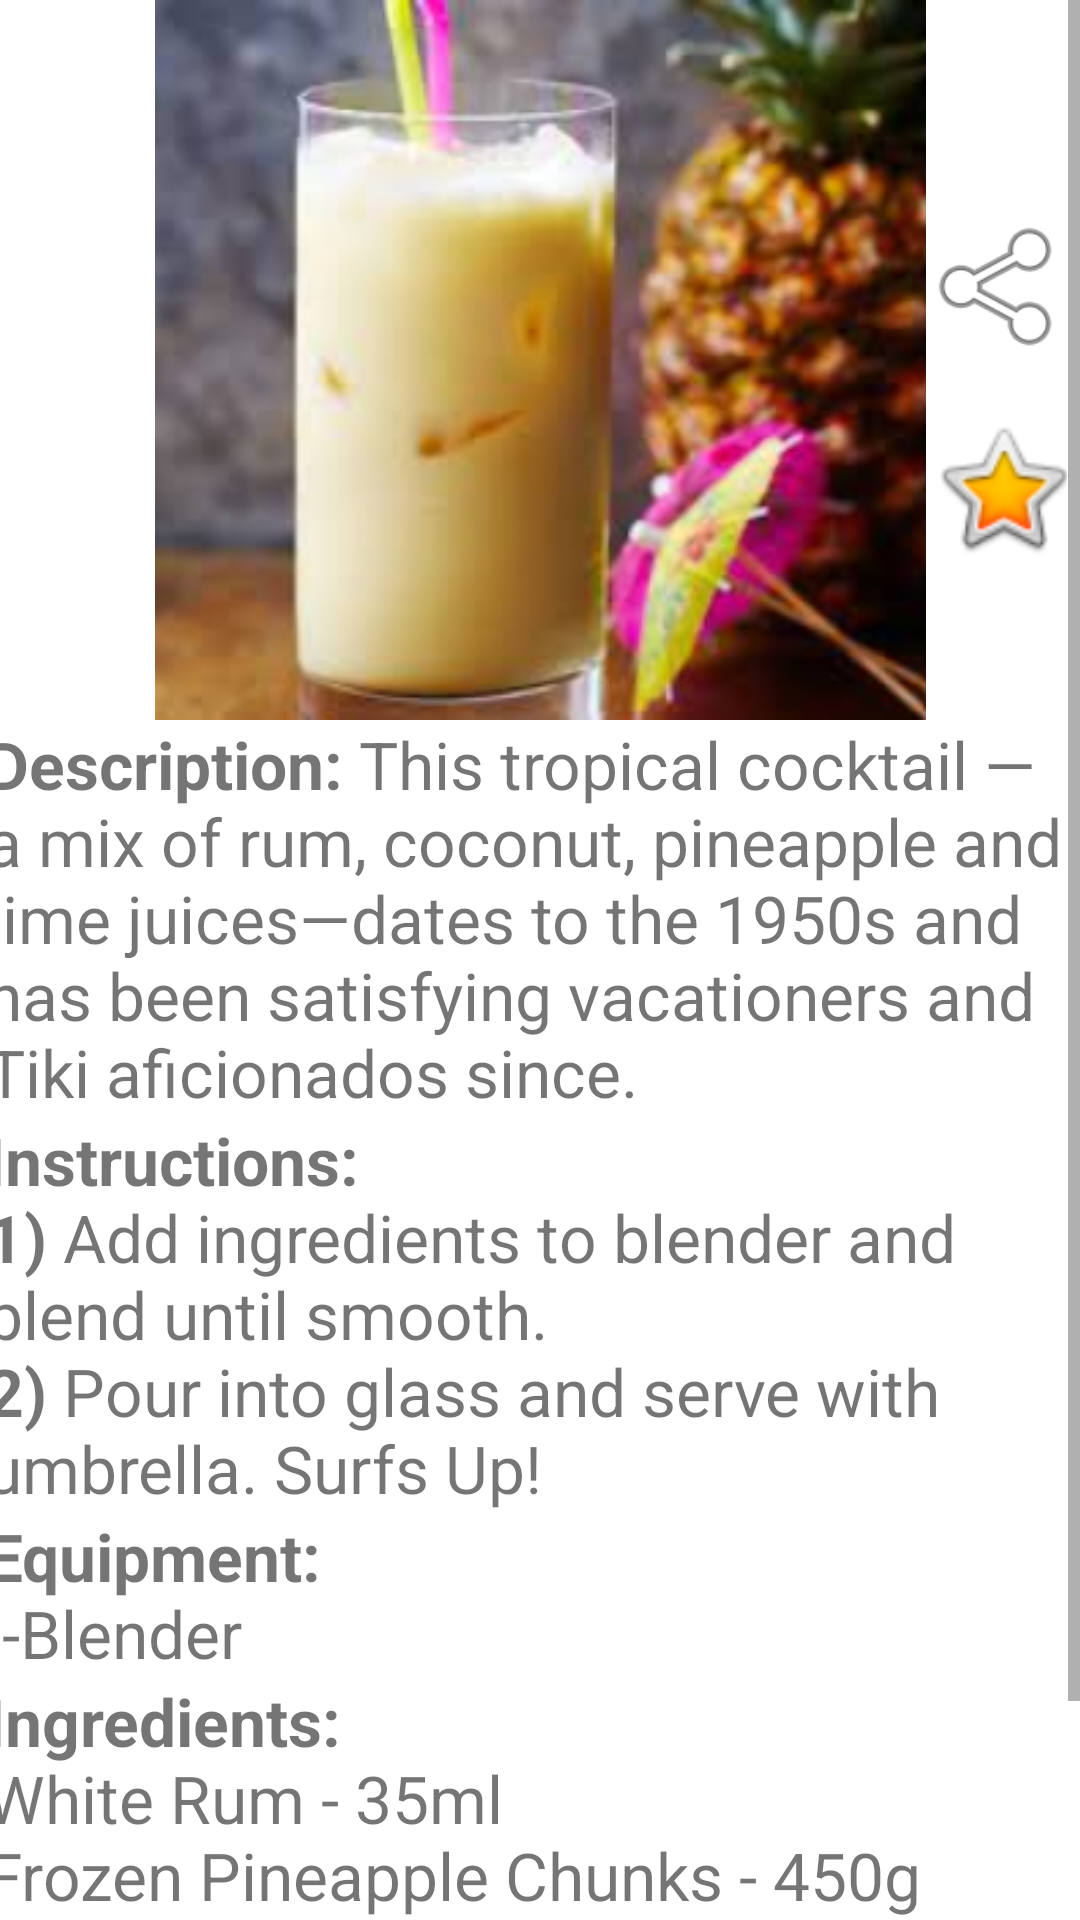

Where to tap for icons on this 1080px×1920px app screen, as [x,y]:
Favourite Button: [1004,490]
Share Button: [995,287]
